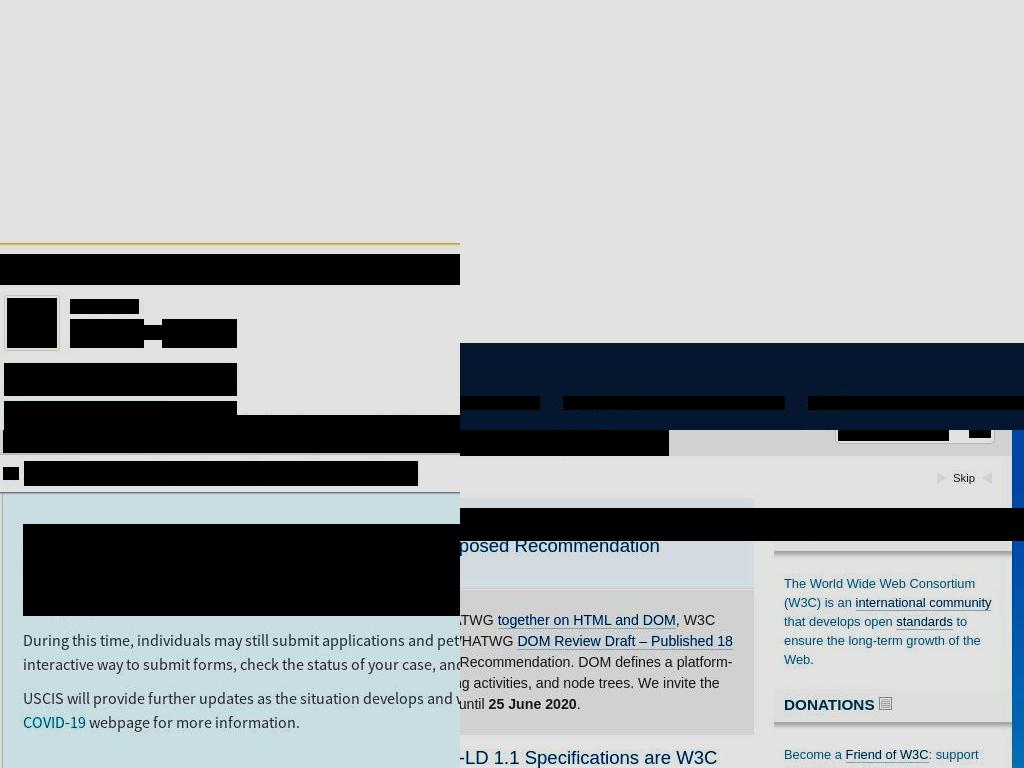button: (460, 510, 700, 559), (460, 633, 733, 672), (460, 747, 718, 768), (262, 430, 437, 453), (497, 612, 676, 630), (3, 430, 137, 453), (136, 430, 263, 453), (563, 430, 669, 456), (460, 430, 564, 456), (855, 595, 991, 612), (162, 319, 237, 348), (70, 319, 144, 348), (845, 747, 929, 764), (896, 614, 954, 631), (969, 430, 991, 438)
field: (838, 430, 949, 441)
heading: (460, 508, 1024, 541), (460, 510, 701, 557), (460, 518, 774, 552), (460, 747, 718, 768), (563, 396, 785, 410), (808, 396, 1024, 410), (783, 525, 881, 543), (783, 696, 879, 714), (460, 396, 540, 410), (880, 526, 894, 540), (878, 697, 892, 711)
image: (7, 298, 57, 348), (3, 467, 19, 480), (969, 430, 991, 438)
link: (23, 688, 460, 732), (952, 472, 976, 485)
text: (23, 524, 460, 616), (23, 630, 460, 674), (460, 654, 733, 713), (0, 254, 460, 285), (783, 614, 981, 668), (24, 461, 418, 486), (460, 612, 715, 650), (23, 630, 460, 650), (23, 688, 460, 708), (4, 363, 237, 396), (4, 401, 237, 430), (783, 576, 975, 611), (86, 712, 300, 732), (176, 415, 460, 430), (783, 747, 978, 768), (783, 614, 896, 630), (488, 696, 577, 713), (783, 747, 846, 763), (102, 299, 139, 314), (70, 299, 103, 314), (144, 325, 163, 340), (576, 696, 581, 713)
